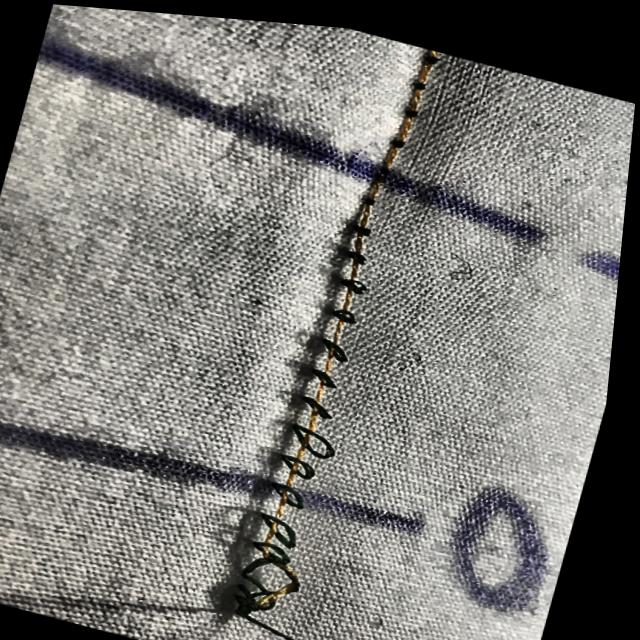Stitch: (194, 219, 547, 640)
